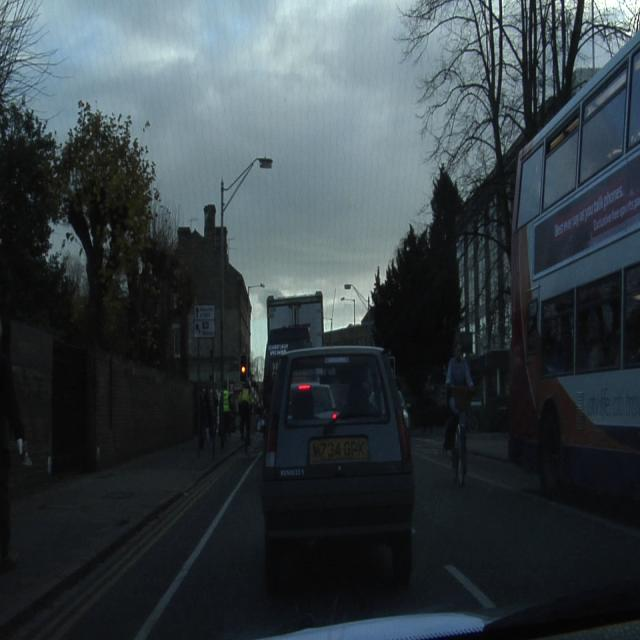Bicyclist: (444, 342, 474, 485)
Building: (458, 175, 511, 406), (170, 205, 221, 386), (224, 228, 251, 384)
Car: (262, 346, 413, 590)
Road: (142, 437, 636, 639), (14, 444, 257, 638)
Tree: (400, 0, 639, 188), (61, 102, 155, 346), (371, 168, 462, 399), (105, 190, 189, 374), (0, 105, 59, 314)
Truck_Bus: (513, 28, 639, 500)
